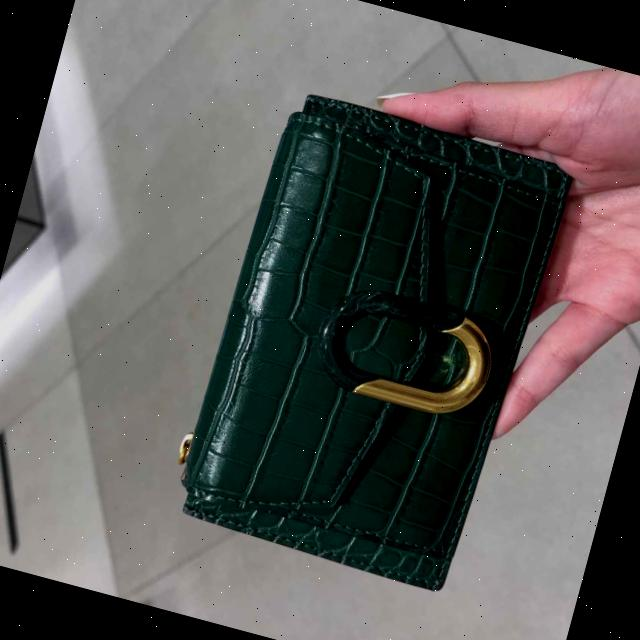handbag: (161, 68, 584, 617)
